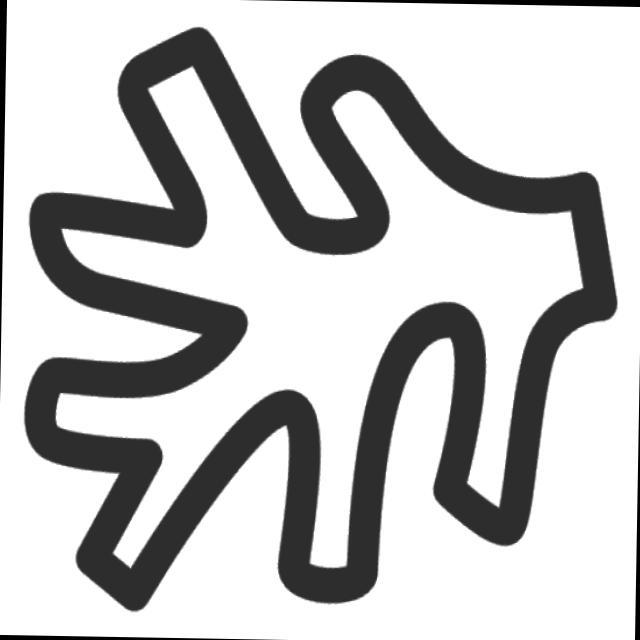coral: (6, 9, 635, 631)
